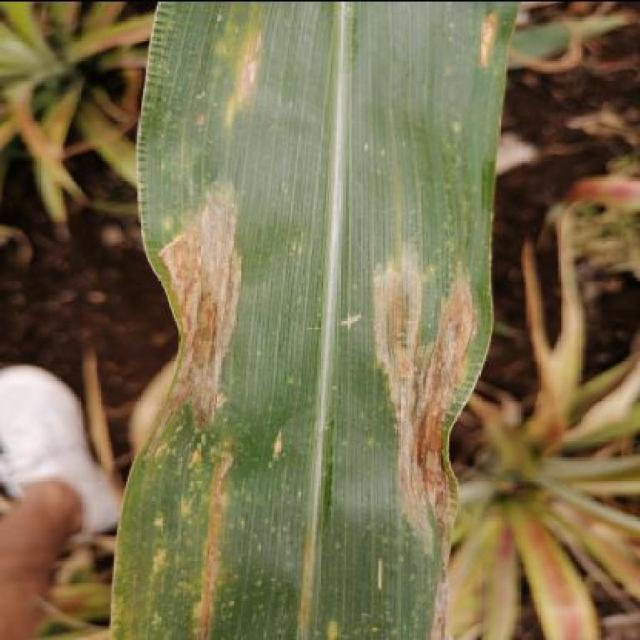Corn_Leaf_Blight: (119, 0, 506, 640)
